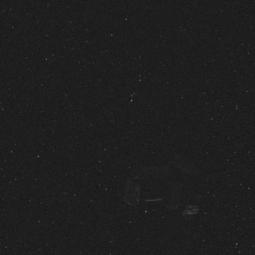soho: (123, 154, 214, 213)
